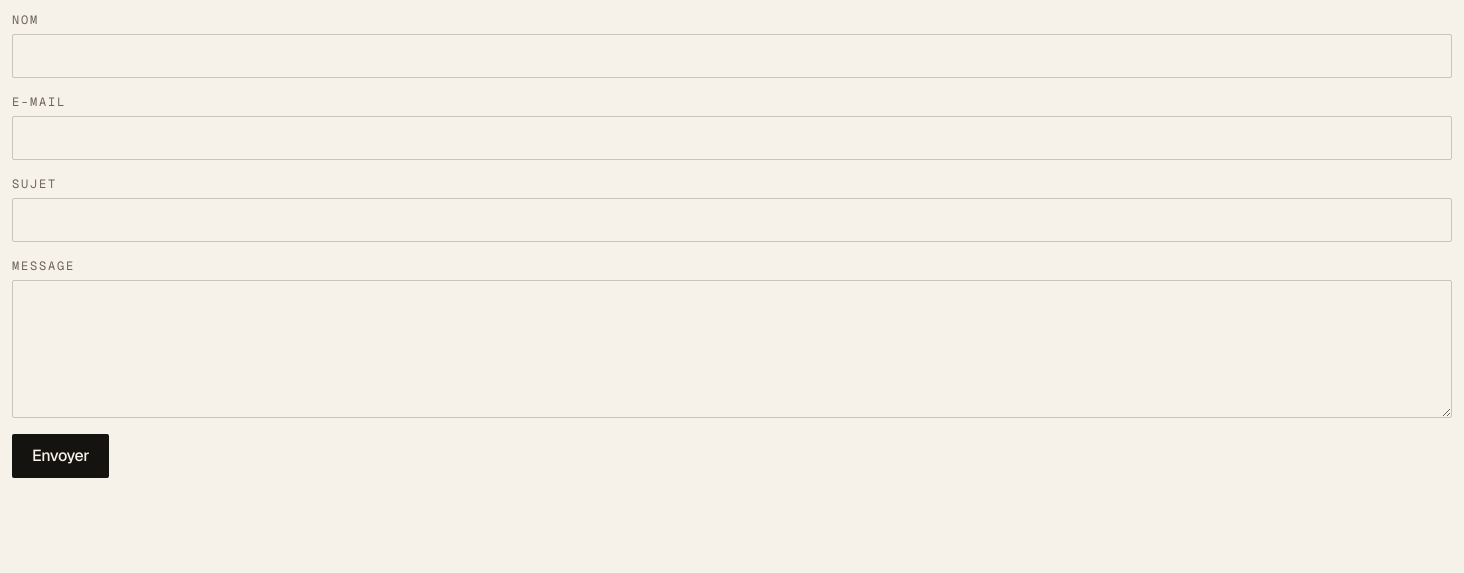
Test case: ContactForm › affiche des erreurs quand on soumet vide
Click the button "Envoyer": (61, 456) [12,434,109,478]
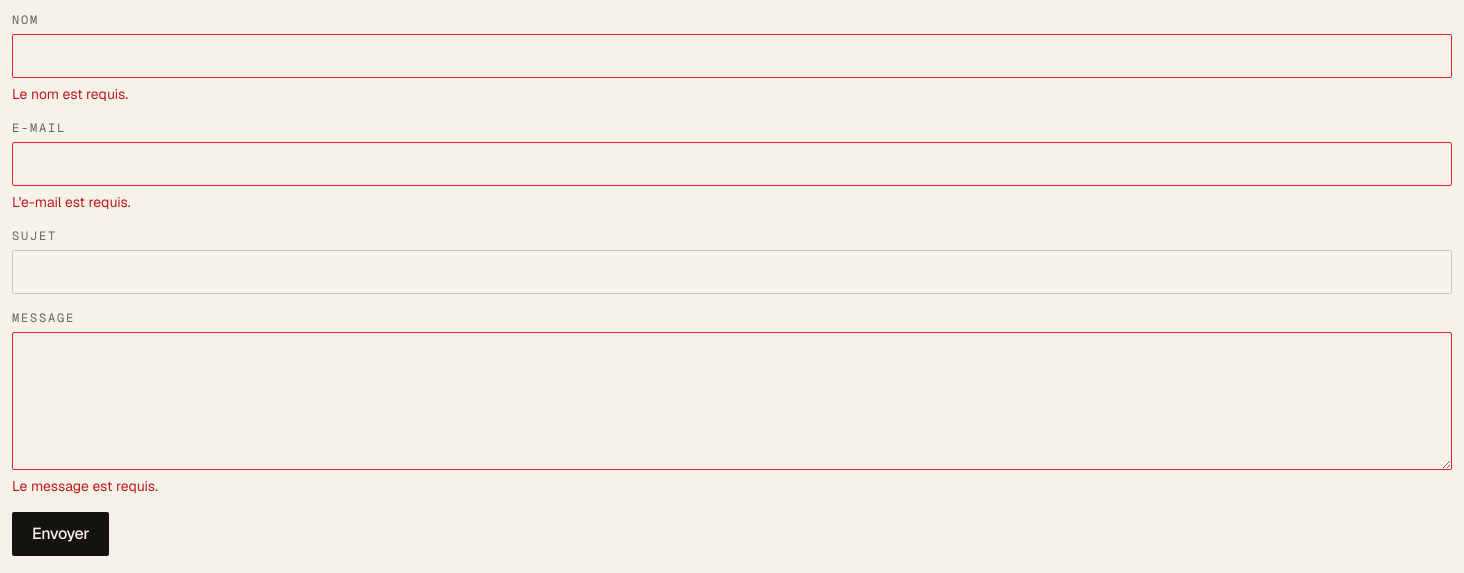
expect the text "Le nom est requis." is shown: met, box [12,85,128,103]
expect the text "L'e-mail est requis." is shown: met, box [12,193,131,211]
expect the text "Le message est requis." is shown: met, box [12,477,158,495]
